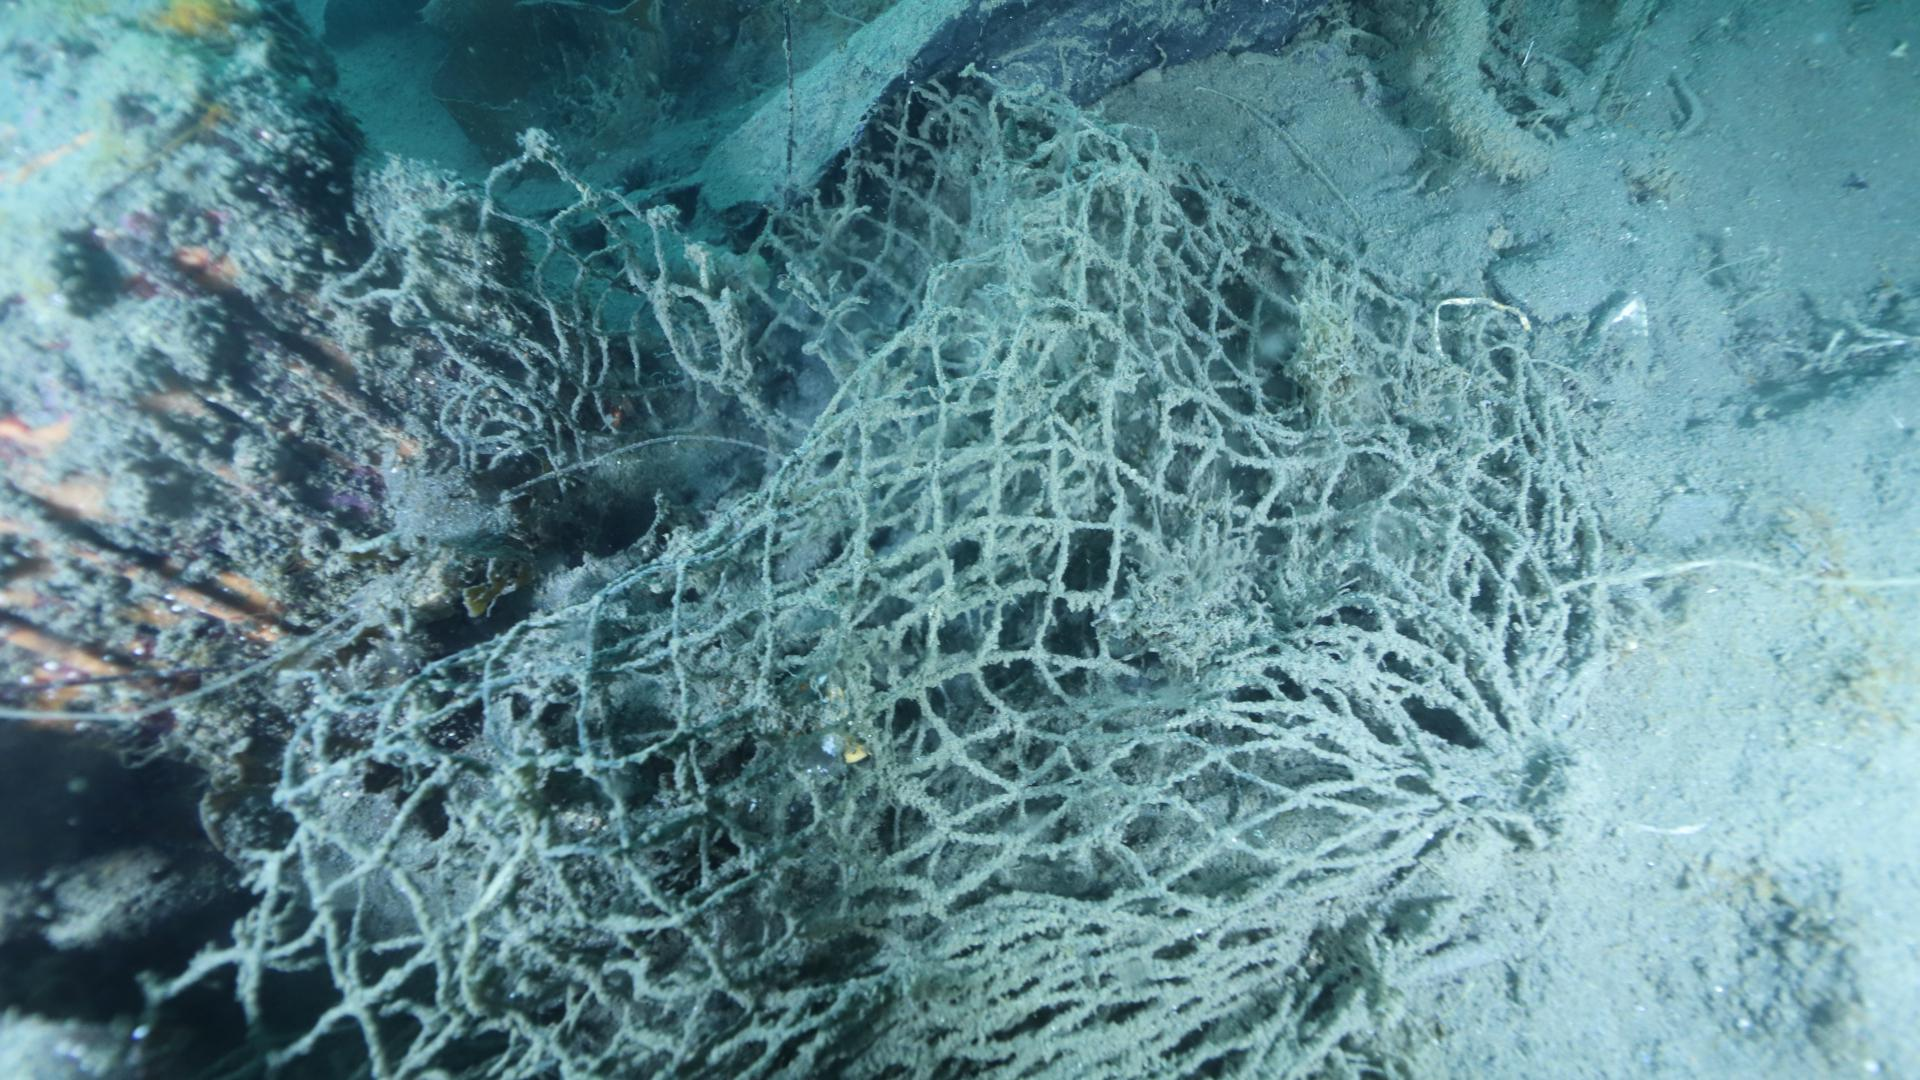fish net: (239, 75, 1611, 1080)
